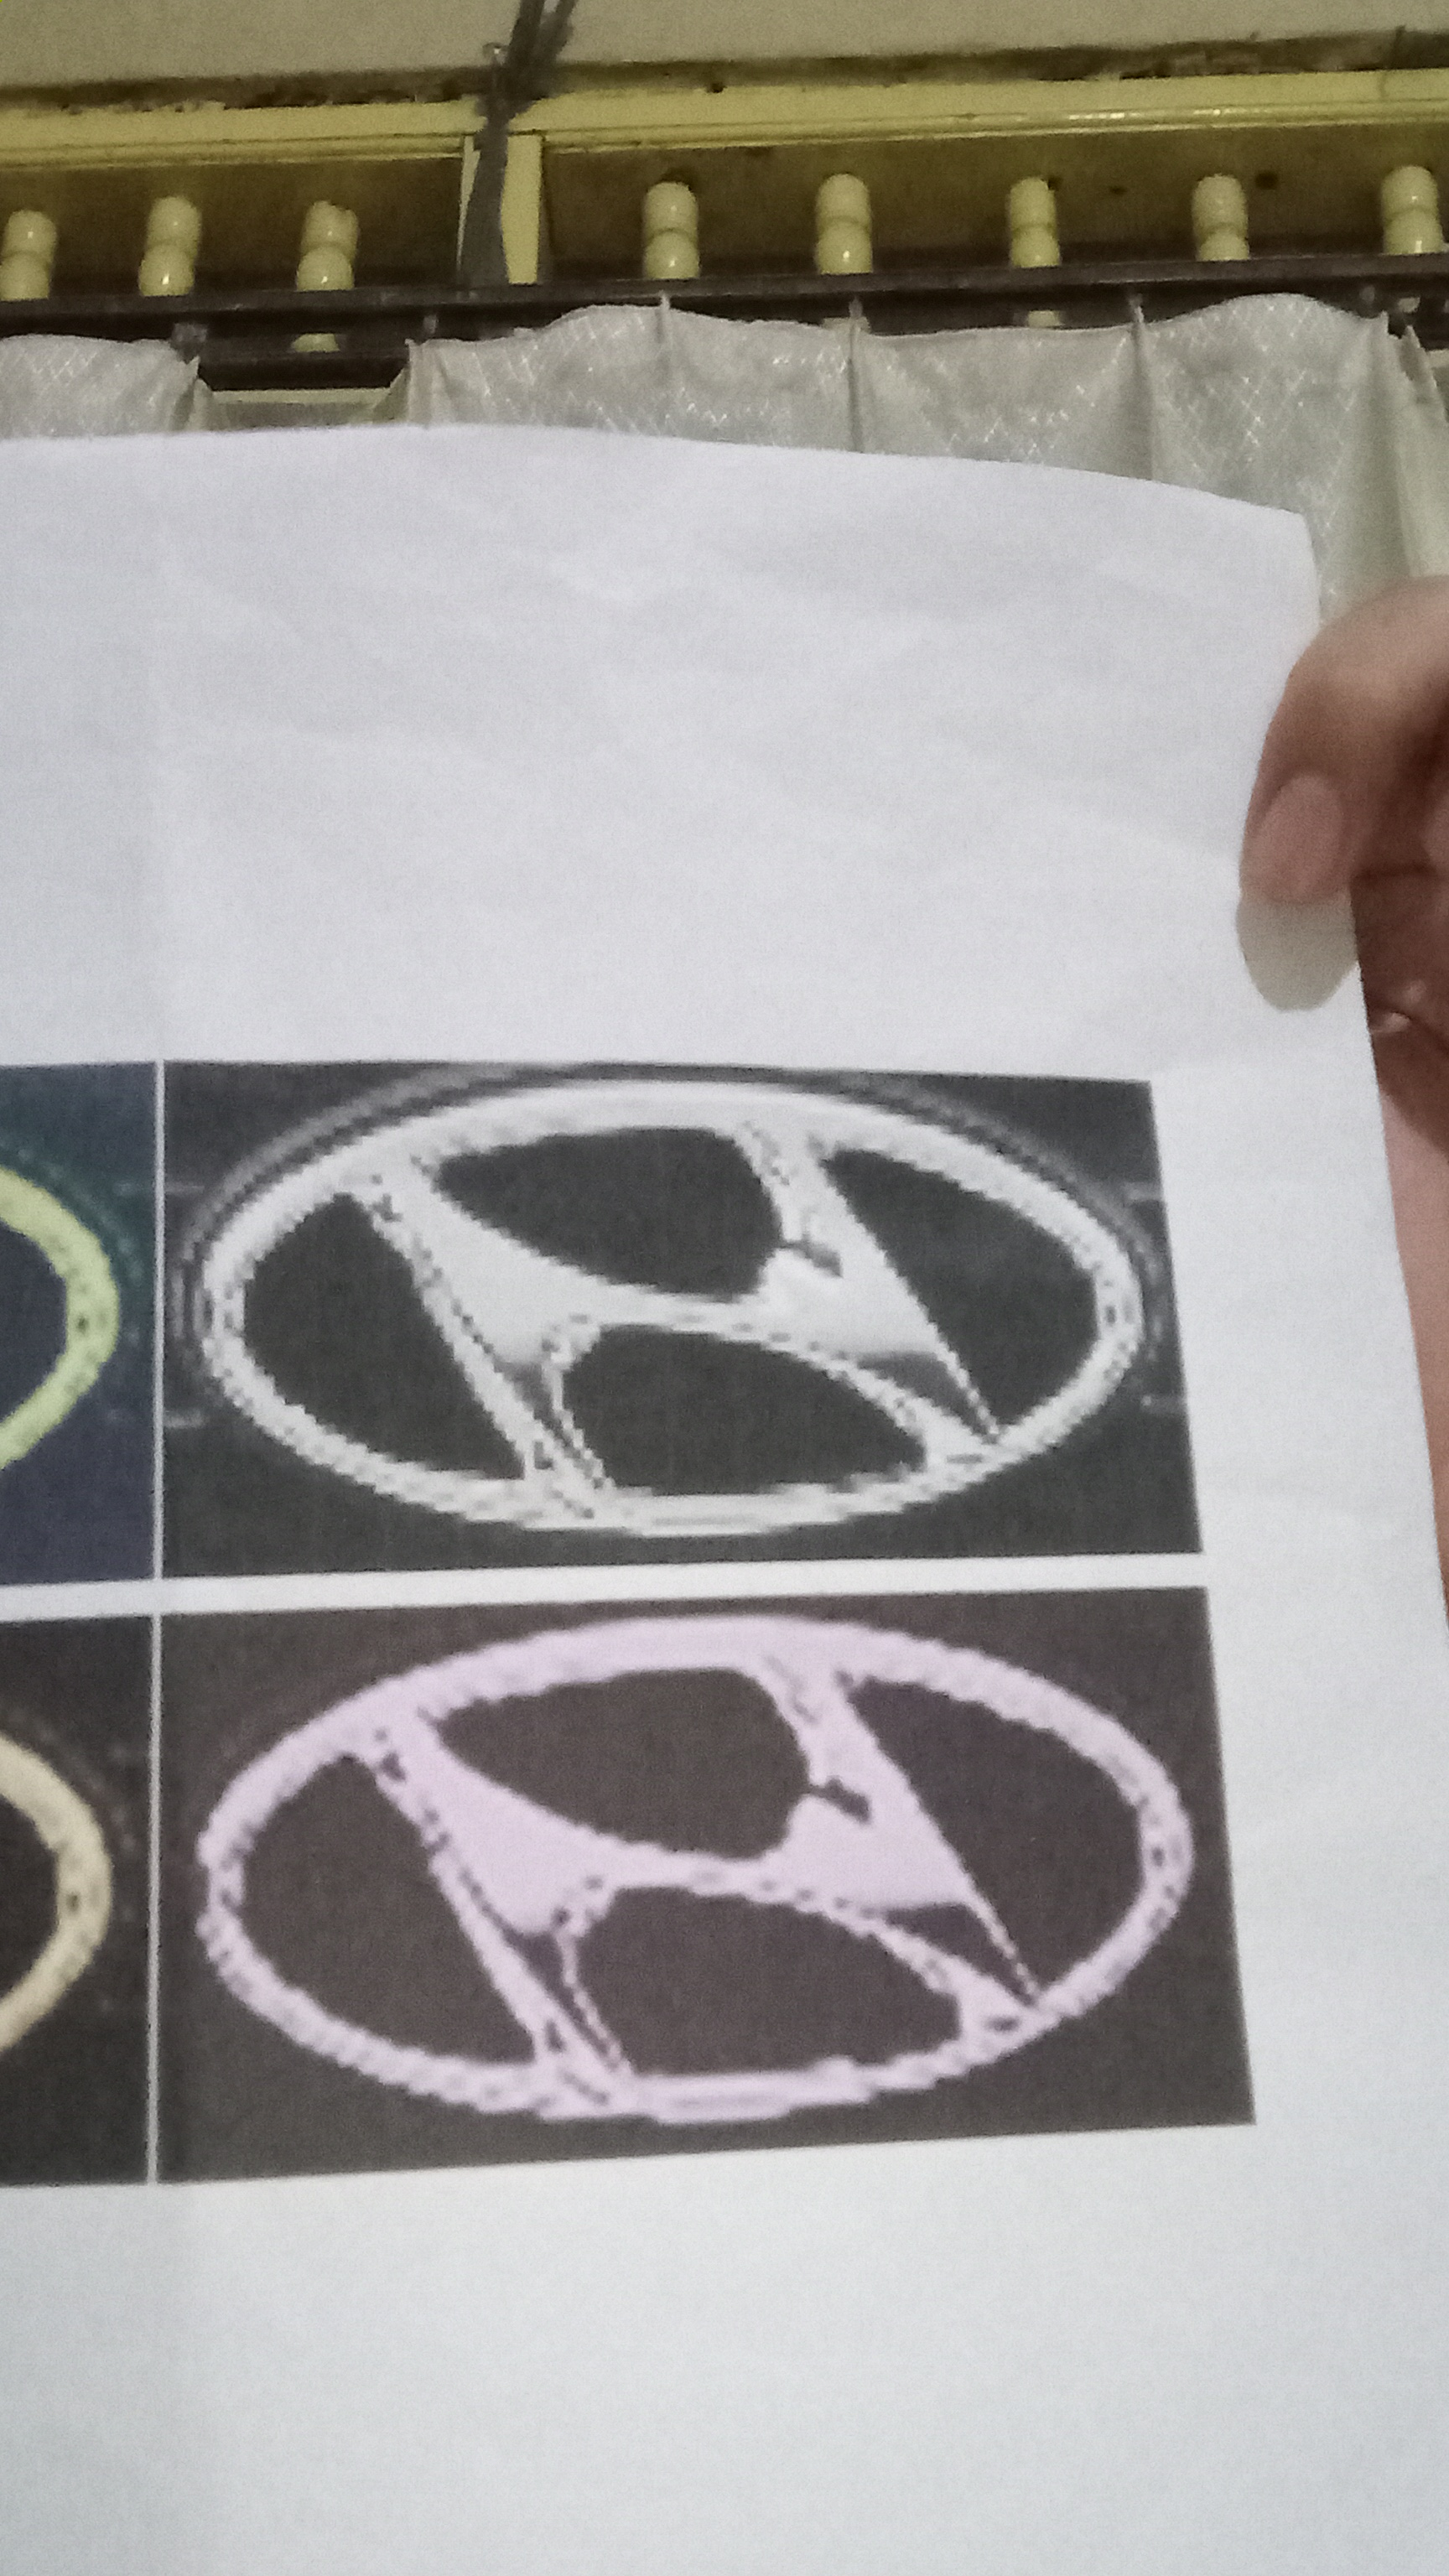Hyundai: (165, 1608, 1249, 2155), (161, 1060, 1182, 1562)
